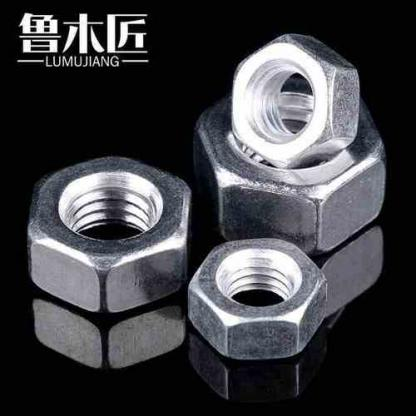FOD: (190, 87, 383, 258), (27, 155, 193, 300), (229, 28, 362, 168), (188, 237, 328, 362), (26, 284, 189, 369)
